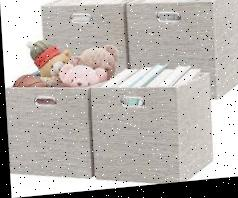cube: (87, 73, 213, 192), (6, 79, 92, 185)
